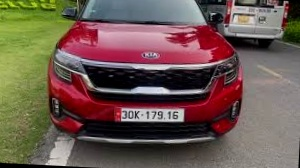Bien-so: (121, 106, 190, 122)
